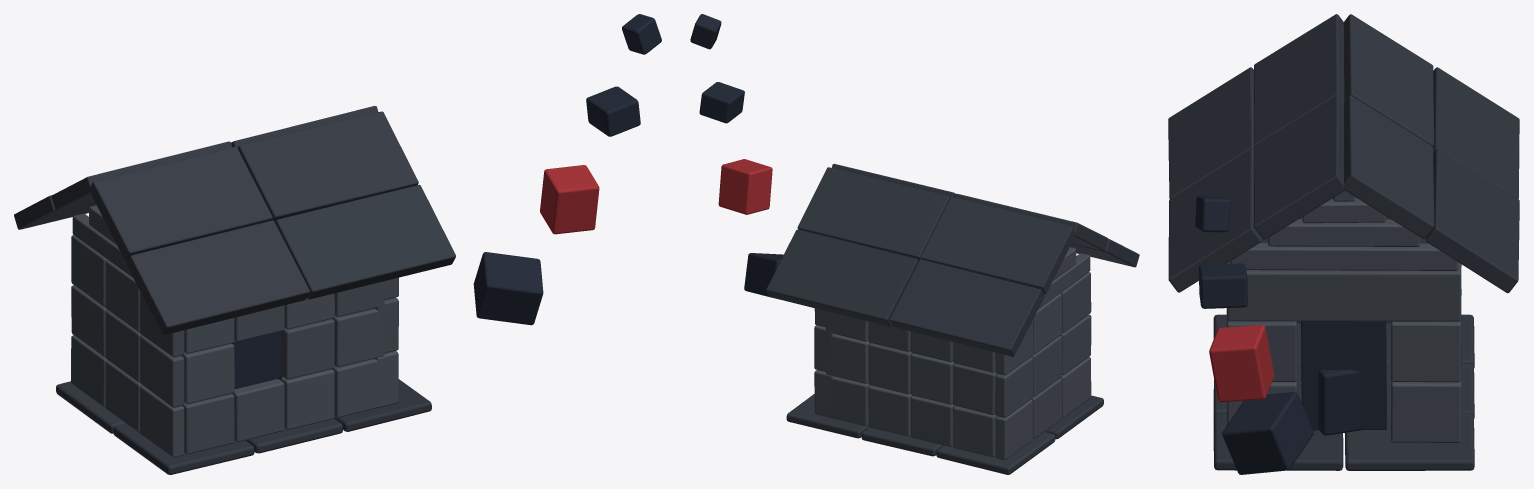
Rendered from house.glb.
3 renders of one model, left to right at view 1: azimuth 30°, elevation 25°; view 2: azimuth 150°, elevation 25°; view 3: azimuth 270°, elevation 25°, orthographic. The views are drawn at different scales.
Visible parts, largest first — view 1: frag46, frag48, frag45, frag47, lift0, lift1, frag9, frag12, frag11, frag7, frag6, frag0 (+27 smaller); view 2: frag50, frag52, frag49, frag51, lift1, frag24, frag19, frag18, frag22, frag25, frag21, frag1 (+27 smaller); view 3: lintel, frag47, frag51, frag52, frag45, frag49, frag48, frag46, frag50, reveal, lift0, frag57 (+16 smaller).
Part boxes in pixels (box(x1,y1,x2,y2)): frag46: box(126, 220, 309, 335); frag48: box(275, 184, 455, 299); frag45: box(89, 146, 272, 260); frag47: box(237, 111, 418, 221); lift0: box(473, 252, 543, 325); lift1: box(540, 165, 599, 234); frag9: box(232, 379, 284, 442); frag12: box(281, 319, 334, 379); frag11: box(280, 369, 334, 429); frag7: box(181, 343, 234, 403); frag6: box(182, 393, 234, 454); frag0: box(113, 423, 254, 474); frag50: box(889, 259, 1044, 356); frag52: box(766, 229, 918, 326); frag49: box(921, 197, 1075, 294); frag51: box(797, 167, 950, 261); lift1: box(718, 159, 772, 214); frag24: box(868, 385, 912, 436); frag19: box(953, 363, 997, 414); frag18: box(953, 406, 997, 457); frag22: box(911, 353, 954, 404); frag25: box(868, 343, 912, 394); frag21: box(911, 396, 954, 446); frag1: box(936, 432, 1055, 474); lintel: box(1226, 261, 1461, 321); frag47: box(1254, 95, 1344, 239); frag51: box(1343, 95, 1434, 239); frag52: box(1425, 148, 1519, 293); frag45: box(1254, 14, 1344, 145); frag49: box(1343, 14, 1434, 146); frag48: box(1168, 149, 1261, 292); frag46: box(1168, 67, 1254, 199); frag50: box(1433, 67, 1519, 199); reveal: box(1301, 321, 1386, 430); lift0: box(1222, 392, 1313, 474); frag57: box(1230, 243, 1458, 270).
Size of the model in its own units: 5.15 by 3.32 by 2.68.
